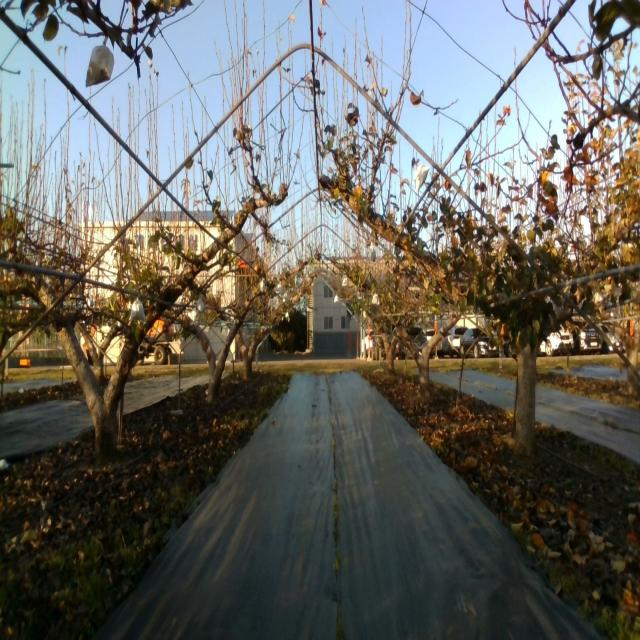pearbags: (85, 46, 115, 88), (414, 164, 431, 196), (129, 297, 146, 325)
